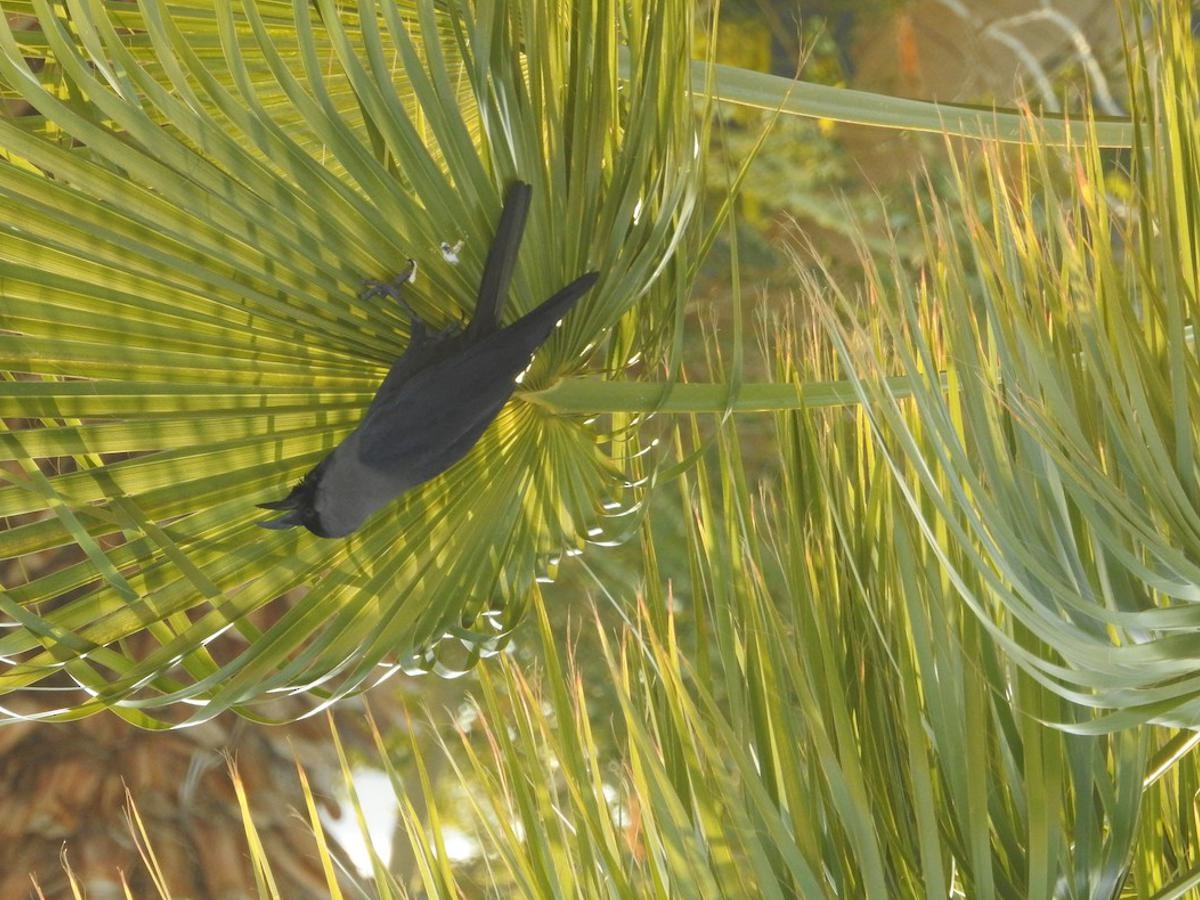crow: (253, 206, 587, 552)
